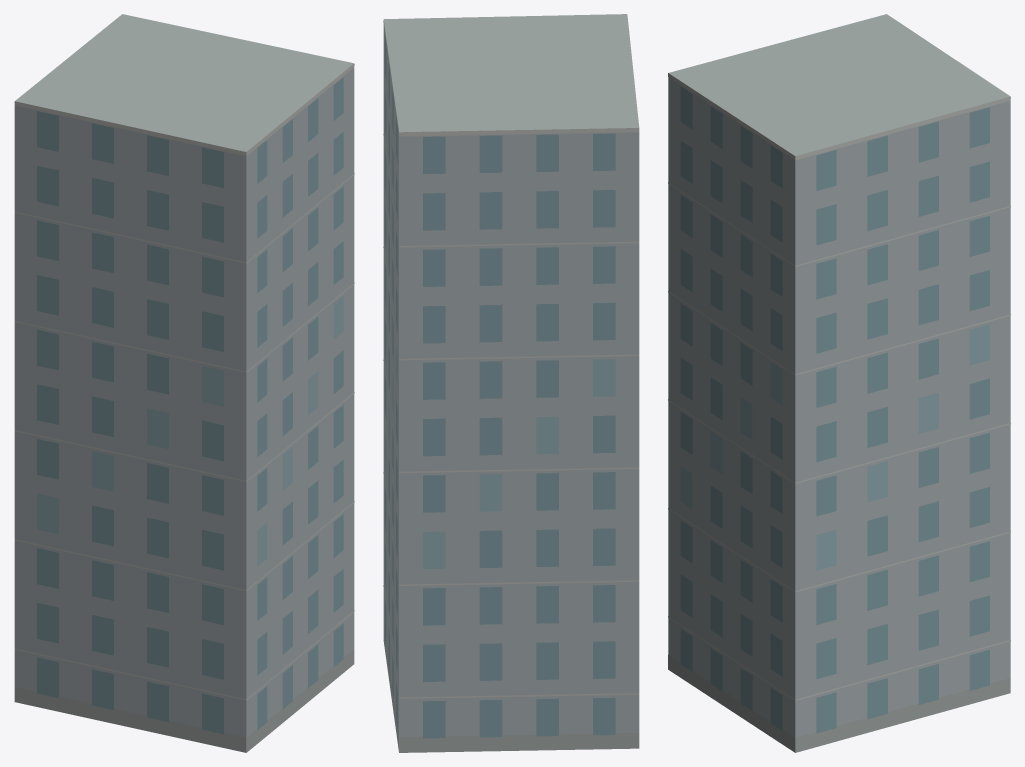
The model's file is survey-upis-32731531.glb.
3 views of the same model, side by side, from view 1: azimuth 30°, elevation 25°; view 2: azimuth 150°, elevation 25°; view 3: azimuth 270°, elevation 25° (orthographic). The views are drawn at different scales.
Visible parts, largest first — view 1: survey-upis-32731531.tmp; view 2: survey-upis-32731531.tmp; view 3: survey-upis-32731531.tmp.
Part boxes in pixels (x1,y1,x2,y2): survey-upis-32731531.tmp: (14,14,354,752); survey-upis-32731531.tmp: (383,14,639,752); survey-upis-32731531.tmp: (668,14,1010,752).
Size of the model in its own units: 17.87 by 34.9 by 18.18.
